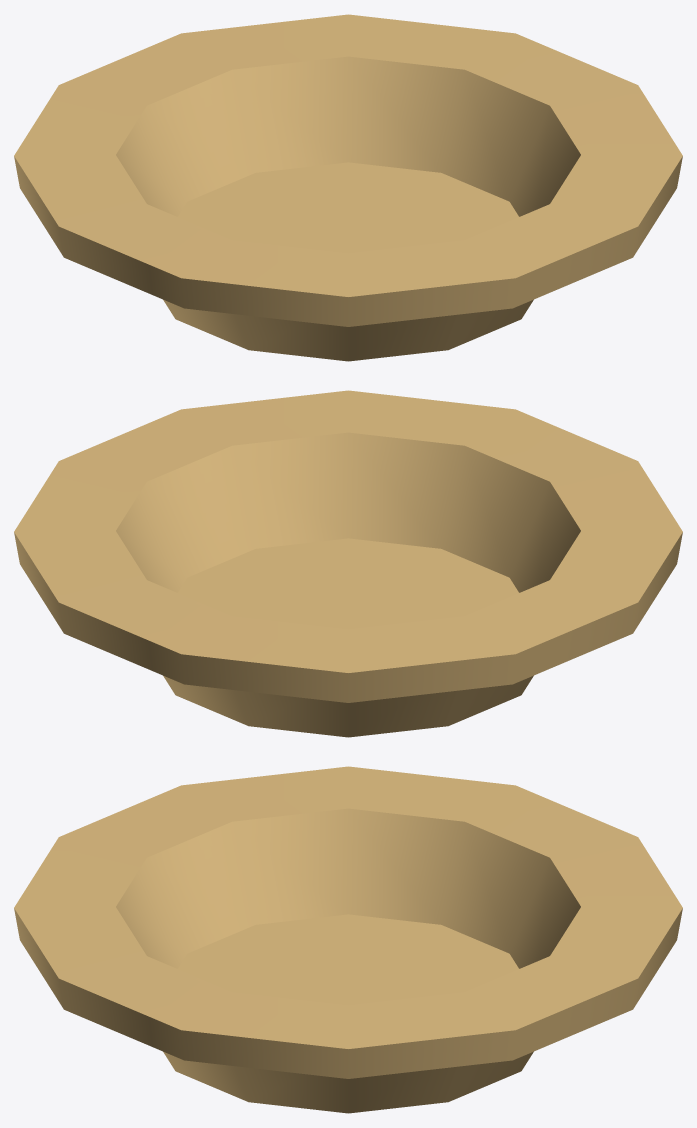
File: Dish_B.fbx
3 views of the same model, one above another, from view 1: azimuth 30°, elevation 25°; view 2: azimuth 150°, elevation 25°; view 3: azimuth 270°, elevation 25° (orthographic).
Parts seen in each view (by area): view 1: Dish_B; view 2: Dish_B; view 3: Dish_B.
Part boxes in pixels (left/top/right/bottom): Dish_B: left=14, top=14, right=682, bottom=361; Dish_B: left=14, top=390, right=682, bottom=737; Dish_B: left=14, top=766, right=682, bottom=1113.
Size of the model in its own units: 39.41 by 7.94 by 39.41.
